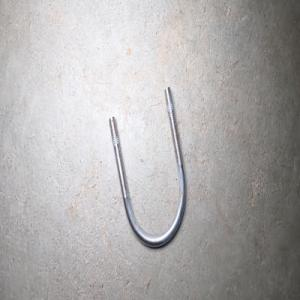ClampPart: (108, 85, 186, 249)
